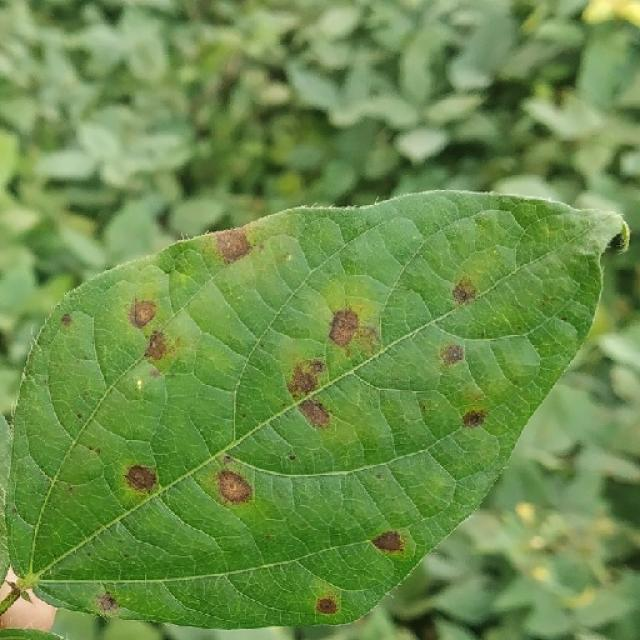Anthracnose: (282, 308, 388, 434), (451, 251, 507, 304), (52, 439, 107, 491), (106, 296, 170, 329), (214, 226, 255, 263), (288, 358, 325, 399), (216, 469, 253, 505), (328, 309, 361, 347), (124, 464, 159, 495), (298, 399, 331, 430), (143, 330, 170, 363), (371, 530, 405, 554), (355, 324, 381, 354), (613, 219, 632, 252), (452, 281, 477, 306), (440, 343, 465, 367), (94, 591, 120, 614), (461, 409, 486, 429), (316, 597, 338, 615), (311, 359, 325, 374), (60, 313, 73, 327), (85, 444, 101, 455), (149, 367, 162, 378), (222, 455, 234, 465), (66, 484, 77, 494), (287, 454, 296, 461), (76, 413, 83, 420), (12, 507, 18, 514)
Blackgram: (0, 190, 626, 639)
